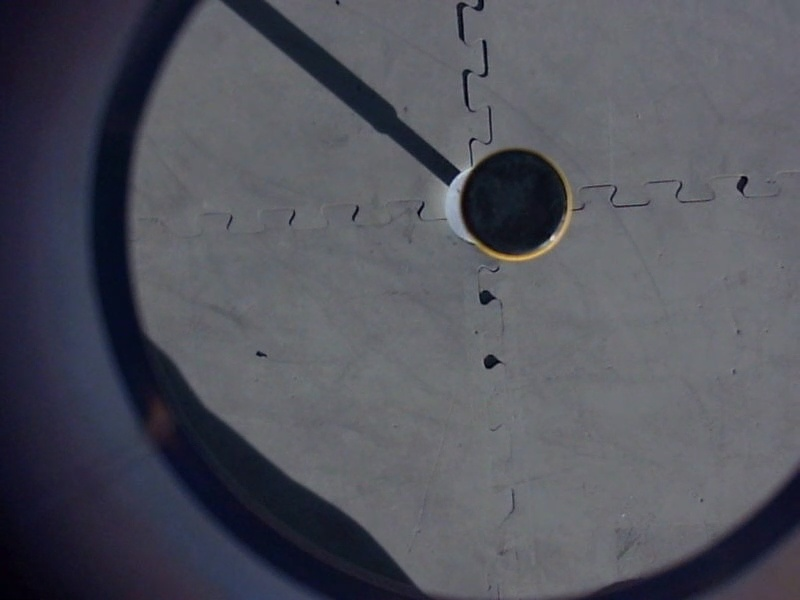tip: (455, 143, 578, 266)
